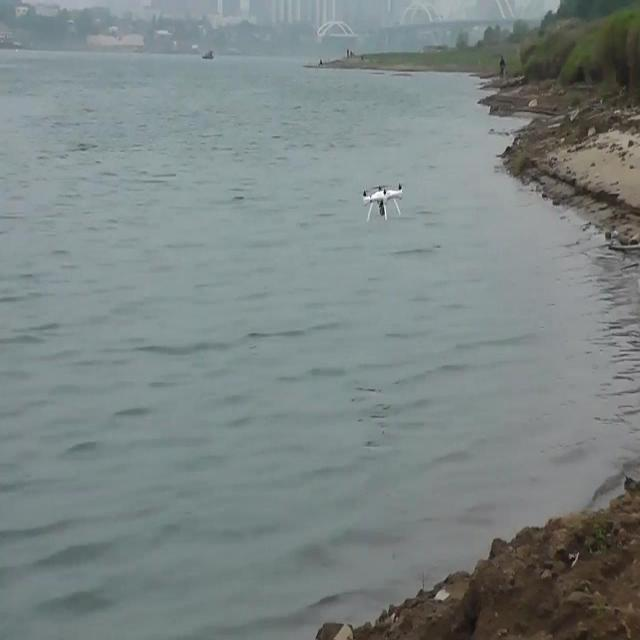UAV: (363, 183, 403, 221)
